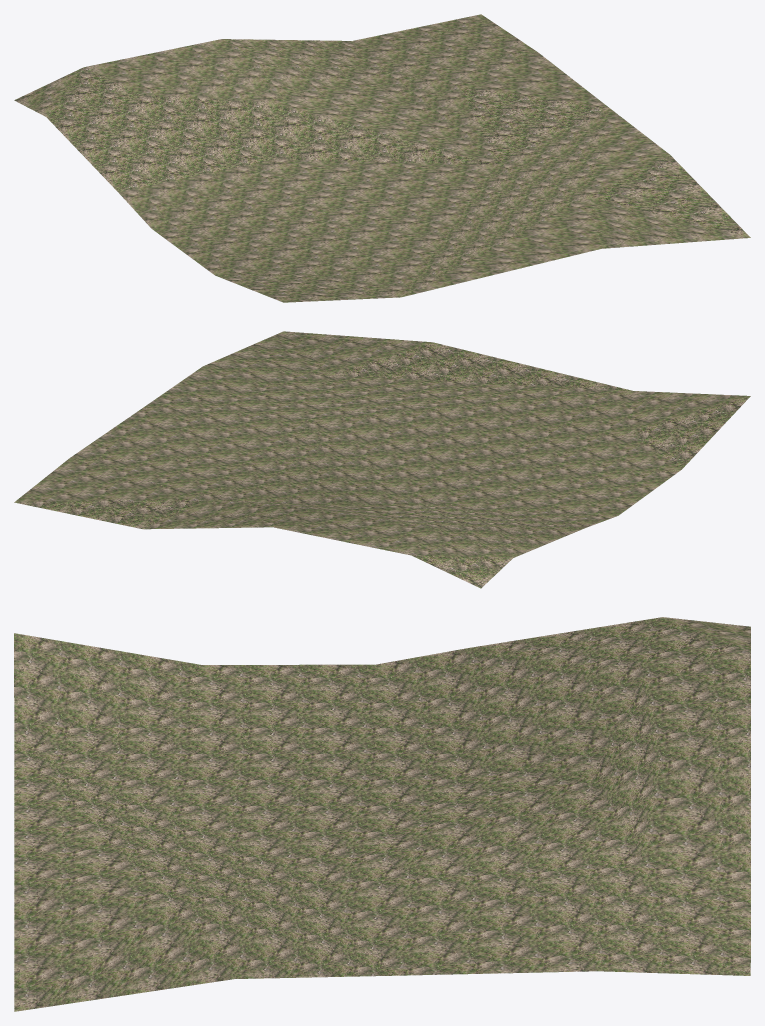
File: ground.obj
3 renders of one model, top to bottom at view 1: azimuth 30°, elevation 25°; view 2: azimuth 150°, elevation 25°; view 3: azimuth 270°, elevation 25°, orthographic. The views are drawn at different scales.
Visible parts, largest first — view 1: Ground; view 2: Ground; view 3: Ground.
Part boxes in pixels (bbox=[...]): Ground: bbox=[14, 14, 750, 302]; Ground: bbox=[14, 331, 750, 588]; Ground: bbox=[14, 617, 750, 1011].
Size of the model in its own units: 349 by 50.03 by 349.
1 material, 1 textured.
